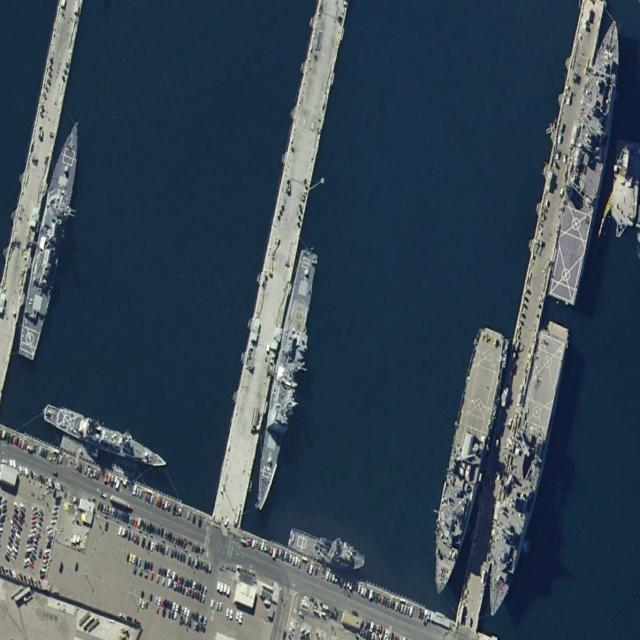Cruiser: (248, 244, 323, 514)
Destroyer: (14, 113, 88, 364)
Landing: (479, 316, 573, 626), (545, 12, 631, 306), (421, 320, 509, 601)
Other Ship: (41, 399, 169, 474), (286, 522, 367, 577)
